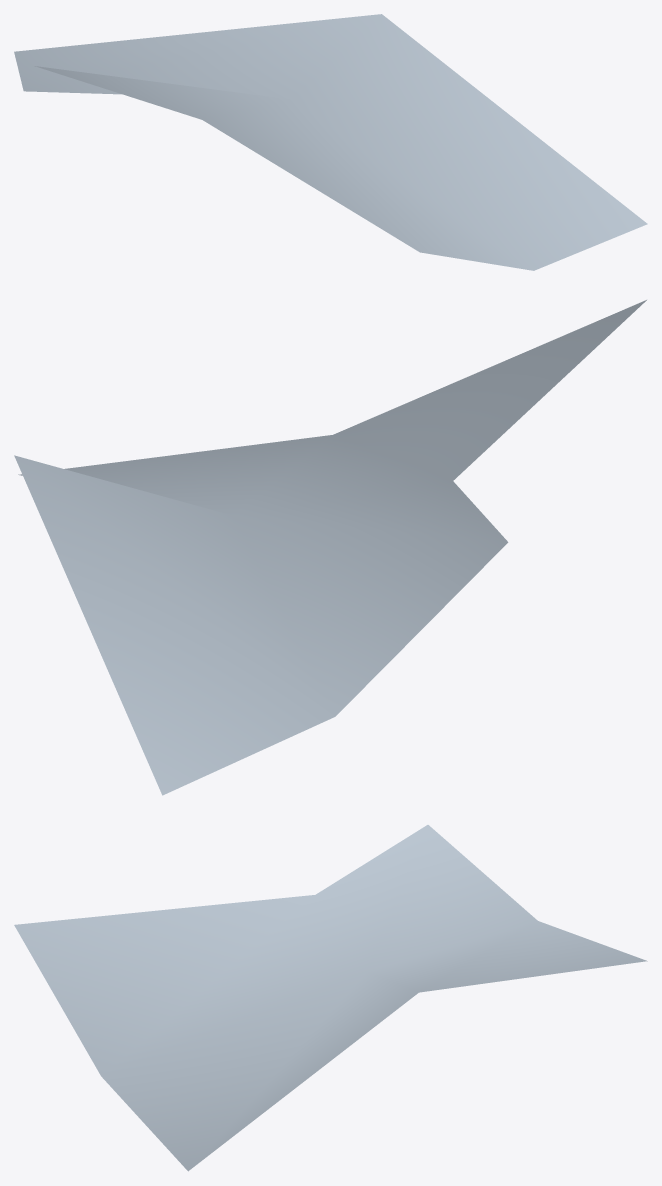
The model's file is plantar-cuneocuboid-ligament-l.glb.
3 renders of one model, top to bottom at view 1: azimuth 30°, elevation 25°; view 2: azimuth 150°, elevation 25°; view 3: azimuth 270°, elevation 25°, orthographic. The views are drawn at different scales.
Visible parts, largest first — view 1: Plantar cuneocuboid ligament.l; view 2: Plantar cuneocuboid ligament.l; view 3: Plantar cuneocuboid ligament.l.
Part boxes in pixels (x1,y1,x2,y2): Plantar cuneocuboid ligament.l: (14, 14, 647, 270); Plantar cuneocuboid ligament.l: (14, 300, 646, 795); Plantar cuneocuboid ligament.l: (14, 825, 647, 1171).
Size of the model in its own units: 0.00625 by 0.00216 by 0.0084.
